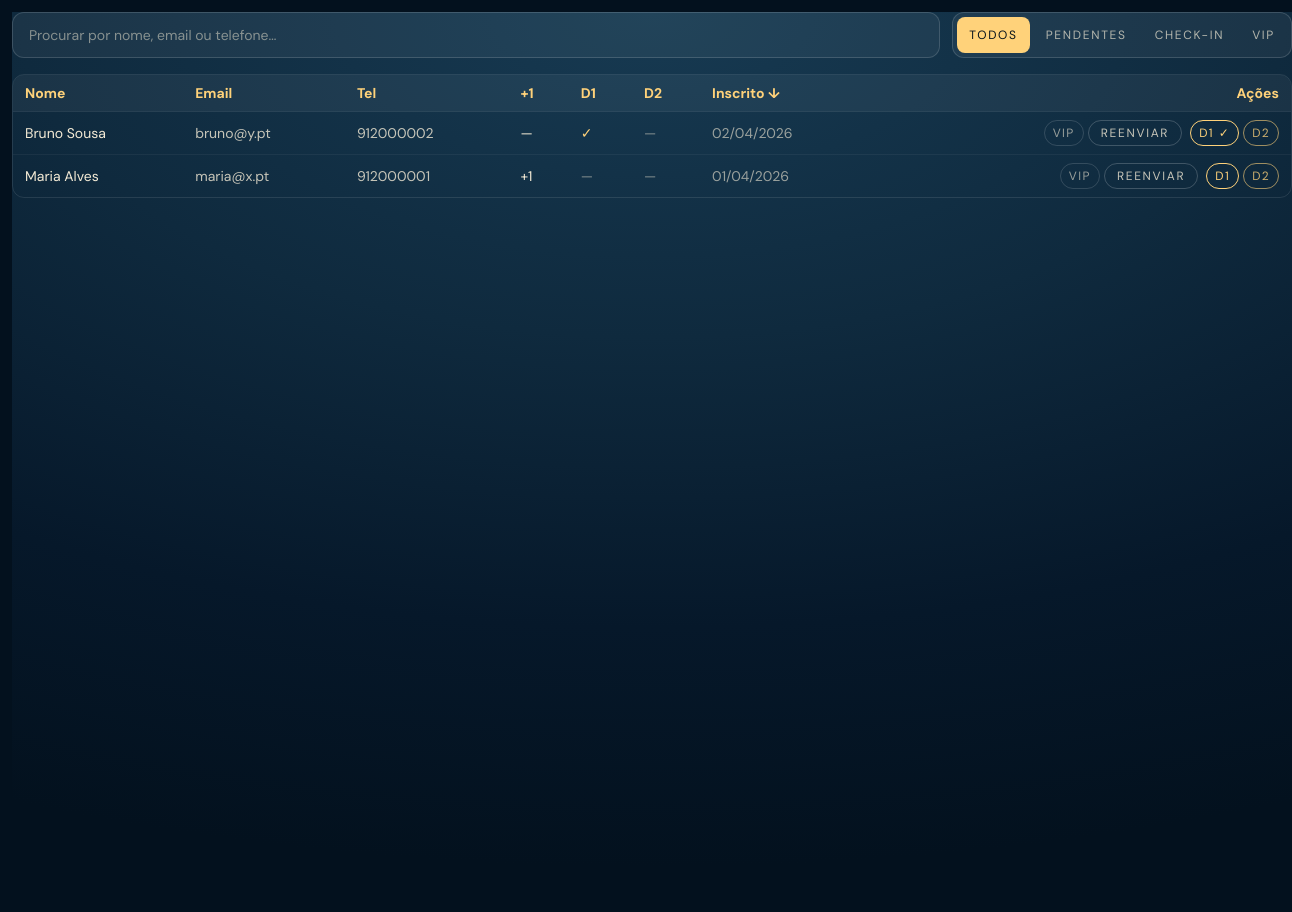
Test case: GuestsTable › toggleVip falha → toast err + rollback
What coordinates should you click on to do the following:
click the button titled "Toggle VIP" in the row of "Maria Alves"
I would click on:
 (1080, 176)
Its box is [1060, 163, 1100, 189].
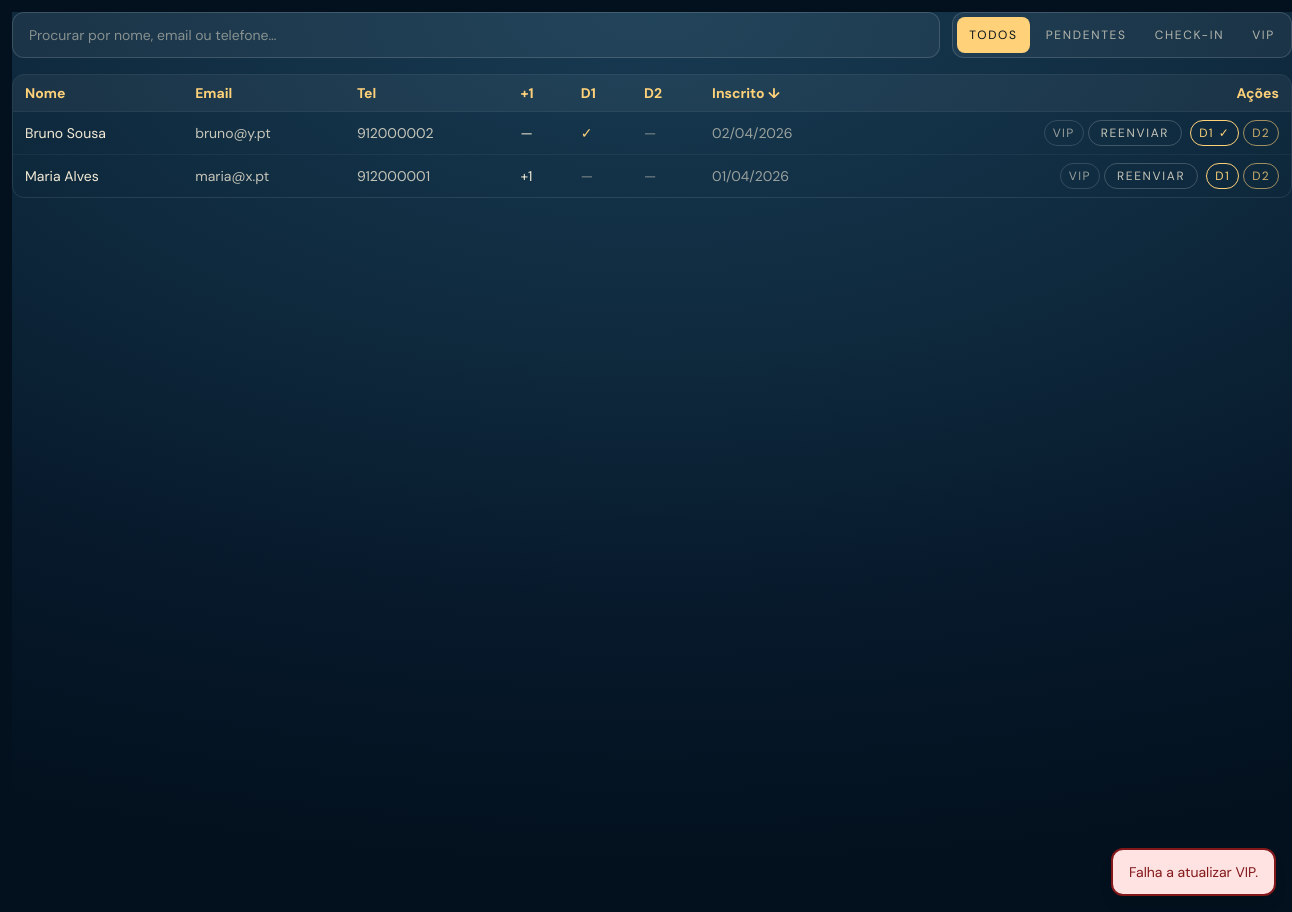
expect the text "Falha a atualizar VIP." is shown: met, box [1111, 848, 1276, 896]
